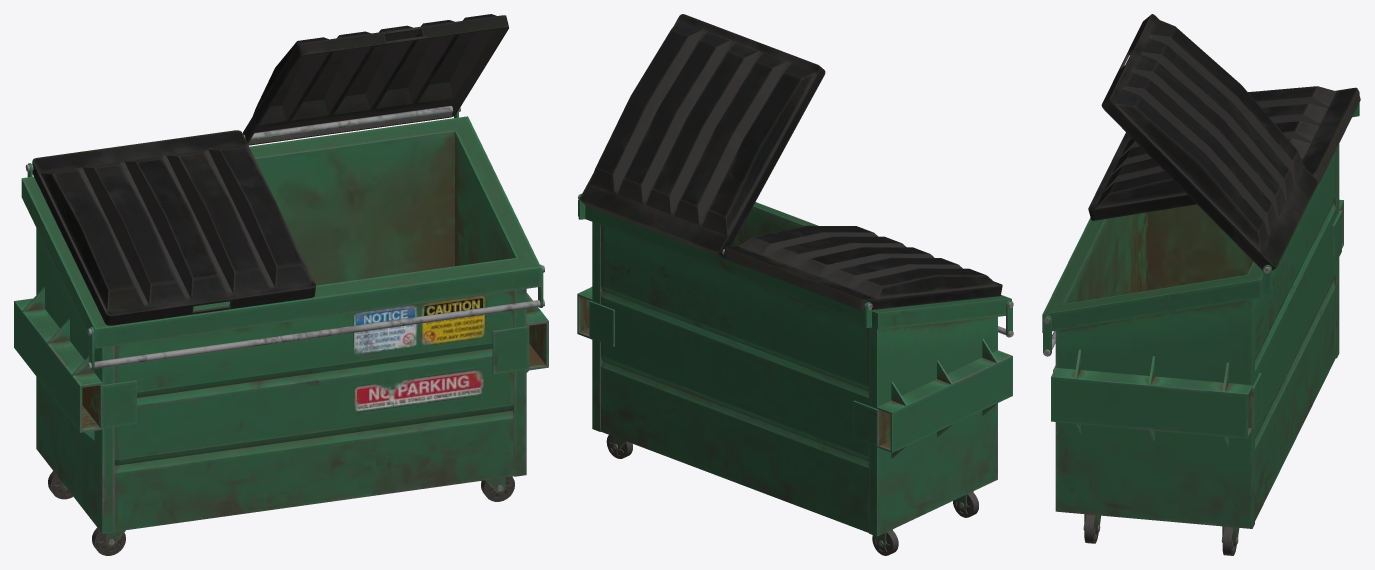
Rendered from dumpster.glb.
3 renders of one model, left to right at view 1: azimuth 30°, elevation 25°; view 2: azimuth 150°, elevation 25°; view 3: azimuth 270°, elevation 25°, orthographic. The views are drawn at different scales.
Parts seen in each view (by area): view 1: Base_02_Dumpster_02_0, Cap_03_Dumpster_02_0, Cap_04_Dumpster_02_0, Wheel_08_Dumpster_02_0, Wheel_05_Dumpster_02_0; view 2: Base_02_Dumpster_02_0, Cap_04_Dumpster_02_0, Cap_03_Dumpster_02_0; view 3: Base_02_Dumpster_02_0, Cap_04_Dumpster_02_0, Cap_03_Dumpster_02_0, Wheel_06_Dumpster_02_0, Wheel_05_Dumpster_02_0.
Boxes of the visible parts, x1,y1,x2,y2 form: Base_02_Dumpster_02_0: [14, 106, 548, 533]; Cap_03_Dumpster_02_0: [32, 130, 315, 325]; Cap_04_Dumpster_02_0: [243, 14, 508, 145]; Wheel_08_Dumpster_02_0: [92, 527, 125, 555]; Wheel_05_Dumpster_02_0: [481, 476, 514, 501]; Base_02_Dumpster_02_0: [577, 193, 1013, 536]; Cap_04_Dumpster_02_0: [580, 14, 825, 257]; Cap_03_Dumpster_02_0: [723, 225, 1002, 310]; Base_02_Dumpster_02_0: [1042, 90, 1359, 528]; Cap_04_Dumpster_02_0: [1101, 14, 1318, 270]; Cap_03_Dumpster_02_0: [1088, 86, 1360, 220]; Wheel_06_Dumpster_02_0: [1221, 526, 1239, 555]; Wheel_05_Dumpster_02_0: [1083, 514, 1100, 543].
Size of the model in its own units: 2.24 by 2.23 by 1.42.
1 material, 1 textured.
